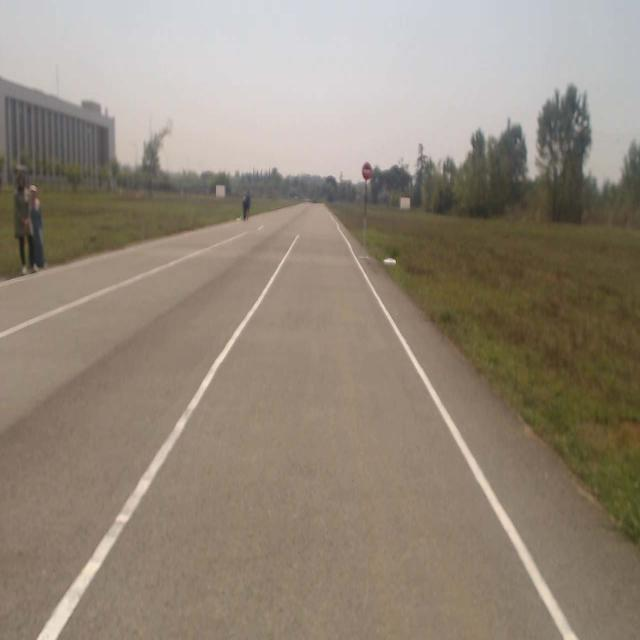girisyok: (363, 162, 371, 178)
